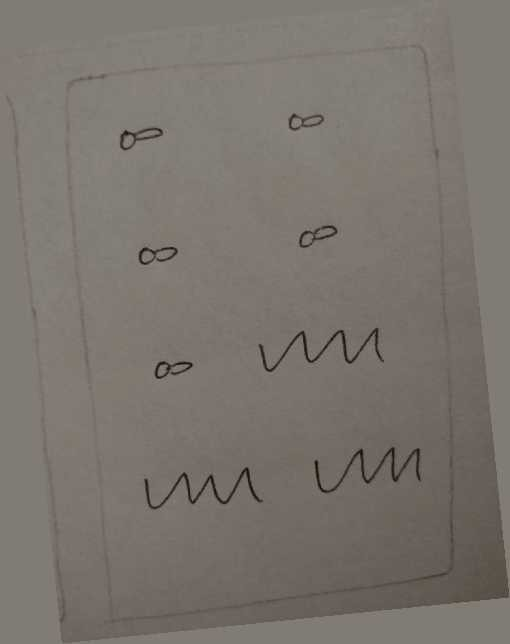switch: (135, 344, 211, 397), (106, 108, 178, 160), (121, 225, 189, 277), (272, 93, 335, 145), (284, 213, 350, 256)
text: (129, 451, 271, 529), (243, 314, 392, 388), (298, 429, 433, 504)
